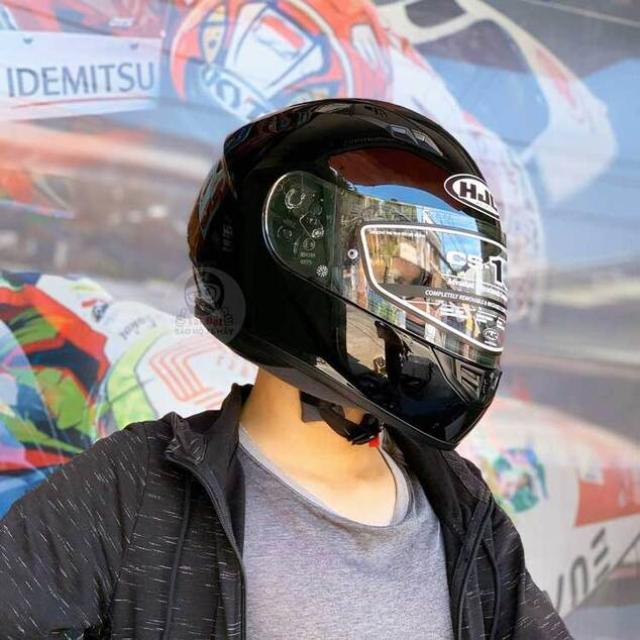helmet: (185, 94, 510, 453)
